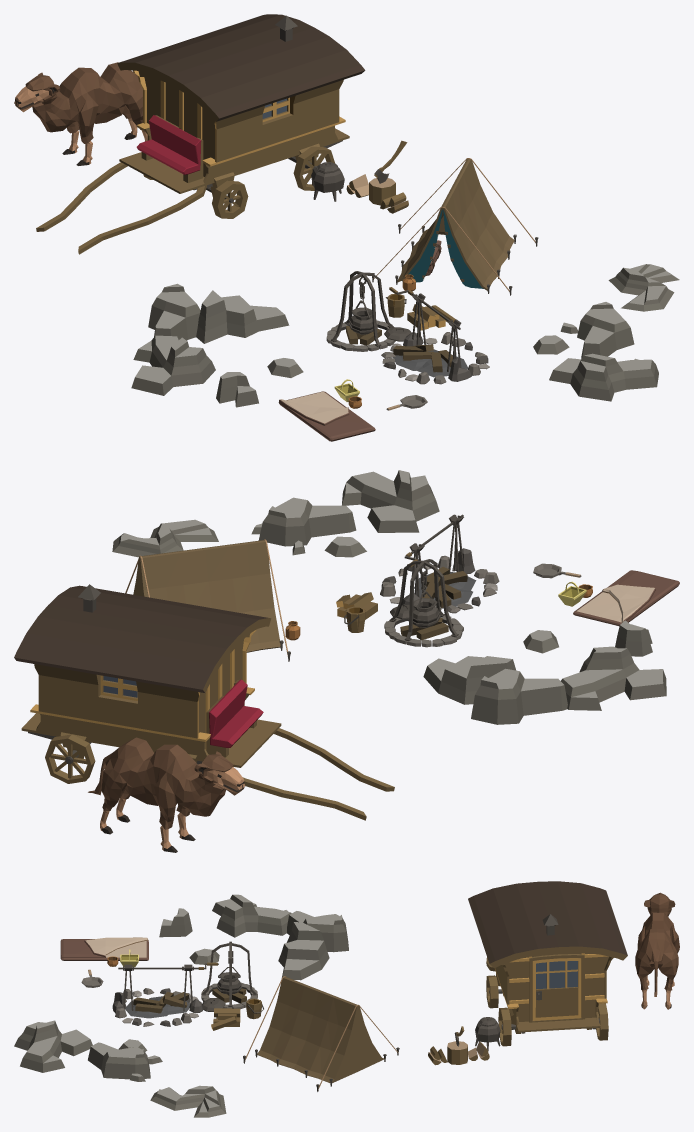
File: Quest0_campsite.fbx
The picture shows the model from 3 angles, top to bottom: view 1: azimuth 30°, elevation 25°; view 2: azimuth 150°, elevation 25°; view 3: azimuth 270°, elevation 25°; orthographic projection. The views are drawn at different scales.
Parts seen in each view (by area): view 1: campsite_07tri:small_wagon, campsite_07tri:Tent, campsite_07tri:towingcamel, campsite_07tri:rock5_(2), campsite_07tri:rock5_(1), campsite_07tri:pot_and_fire, campsite_07tri:rock7, campsite_07tri:bedroll, campsite_07tri:rock6_(2), campsite_07tri:rock6_(1), campsite_07tri:rock3, campsite_07tri:stone_ring (+7 smaller); view 2: campsite_07tri:small_wagon, campsite_07tri:Tent, campsite_07tri:towingcamel, campsite_07tri:rock5_(1), campsite_07tri:rock5_(2), campsite_07tri:rock6_(1), campsite_07tri:pot_and_fire, campsite_07tri:rock6_(2), campsite_07tri:bedroll, campsite_07tri:rock7, campsite_07tri:rock3, campsite_07tri:stone_ring (+7 smaller); view 3: campsite_07tri:small_wagon, campsite_07tri:Tent, campsite_07tri:towingcamel, campsite_07tri:rock5_(2), campsite_07tri:rock5_(1), campsite_07tri:rock7, campsite_07tri:pot_and_fire, campsite_07tri:bedroll, campsite_07tri:rock6_(2), campsite_07tri:rock3, campsite_07tri:rock6_(1), campsite_07tri:stone_ring (+7 smaller).
Boxes of the visible parts, x1,y1,x2,y2 form: campsite_07tri:small_wagon: [36, 14, 365, 254]; campsite_07tri:Tent: [372, 158, 538, 295]; campsite_07tri:towingcamel: [14, 62, 147, 165]; campsite_07tri:rock5_(2): [549, 353, 658, 401]; campsite_07tri:rock5_(1): [131, 335, 215, 395]; campsite_07tri:pot_and_fire: [326, 271, 411, 351]; campsite_07tri:rock7: [196, 290, 289, 343]; campsite_07tri:bedroll: [278, 391, 375, 441]; campsite_07tri:rock6_(2): [577, 302, 634, 358]; campsite_07tri:rock6_(1): [148, 283, 200, 340]; campsite_07tri:rock3: [608, 264, 679, 311]; campsite_07tri:stone_ring: [381, 332, 489, 384]; campsite_07tri:small_wagon: [14, 584, 394, 820]; campsite_07tri:Tent: [125, 539, 290, 661]; campsite_07tri:towingcamel: [88, 737, 245, 852]; campsite_07tri:rock5_(1): [561, 646, 666, 710]; campsite_07tri:rock5_(2): [342, 470, 439, 532]; campsite_07tri:rock6_(1): [471, 668, 567, 724]; campsite_07tri:pot_and_fire: [384, 559, 463, 647]; campsite_07tri:rock6_(2): [258, 497, 356, 546]; campsite_07tri:bedroll: [573, 570, 679, 626]; campsite_07tri:rock7: [423, 656, 516, 704]; campsite_07tri:rock3: [112, 519, 218, 557]; campsite_07tri:stone_ring: [380, 548, 499, 613]; campsite_07tri:small_wagon: [468, 881, 627, 1046]; campsite_07tri:Tent: [243, 976, 399, 1091]; campsite_07tri:towingcamel: [635, 892, 679, 1009]; campsite_07tri:rock5_(2): [14, 1020, 92, 1072]; campsite_07tri:rock5_(1): [212, 894, 291, 937]; campsite_07tri:rock7: [278, 922, 329, 980]; campsite_07tri:pot_and_fire: [201, 941, 257, 1011]; campsite_07tri:bedroll: [60, 937, 148, 960]; campsite_07tri:rock6_(2): [88, 1042, 150, 1079]; campsite_07tri:rock3: [150, 1085, 226, 1117]; campsite_07tri:rock6_(1): [287, 911, 348, 952]; campsite_07tri:stone_ring: [112, 988, 202, 1026].
Size of the model in its own units: 5535 by 1592 by 7272.
